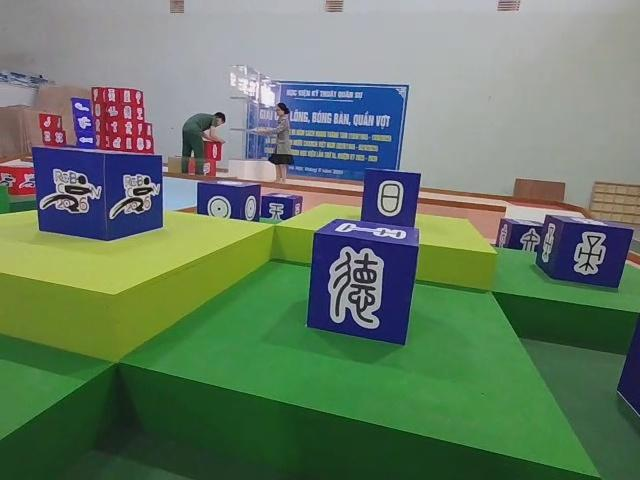R1 Blue: (31, 148, 162, 243)
R2 Fake Blue: (306, 220, 421, 346), (360, 169, 420, 230), (496, 218, 546, 251)
R2 Real Blue: (538, 215, 634, 290), (197, 181, 261, 223), (261, 192, 302, 221)
